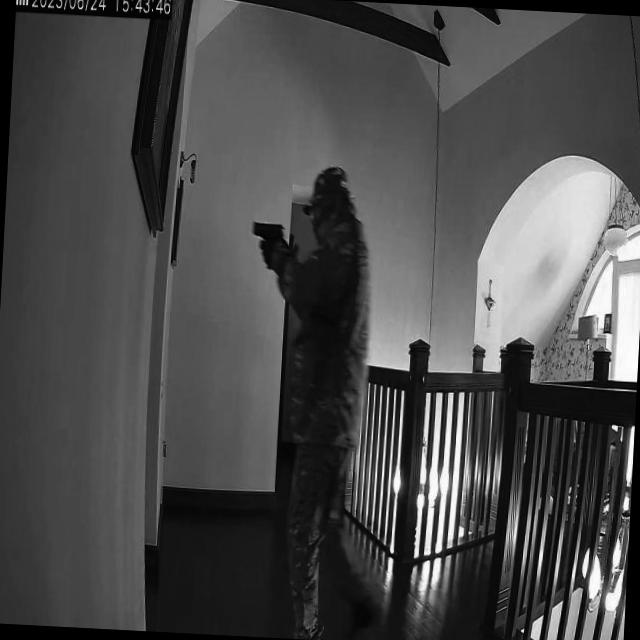gun: (252, 218, 289, 264)
person with a gun: (282, 167, 379, 638)
